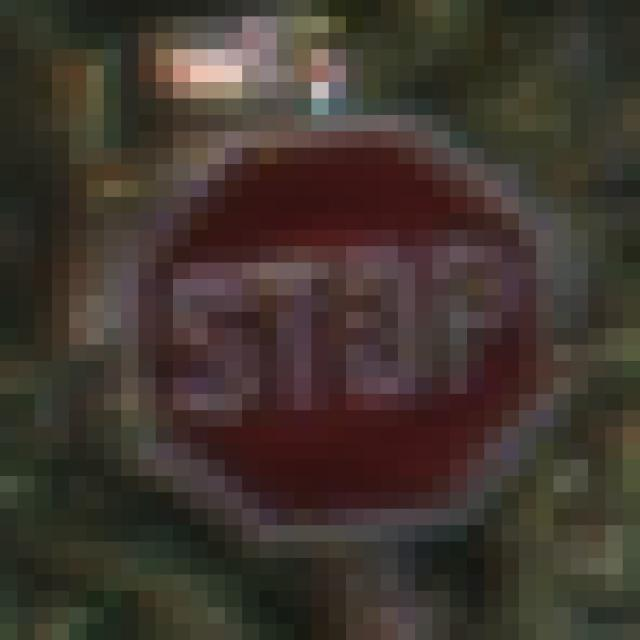STOP: (88, 99, 555, 559)
